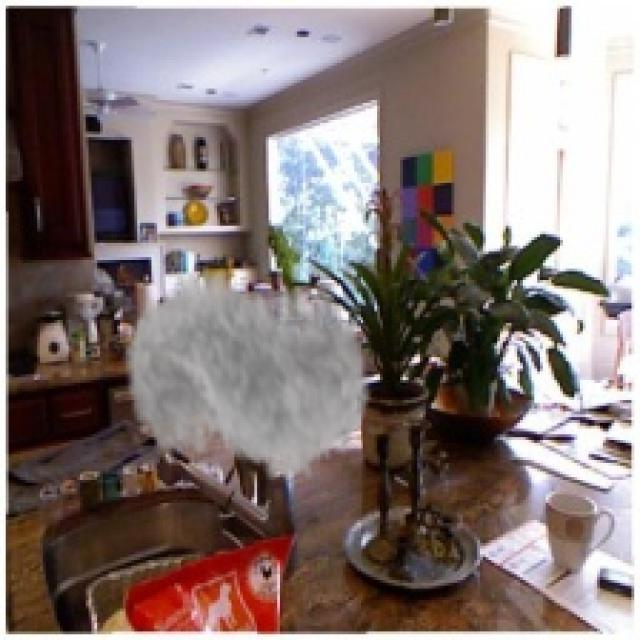smoke: (123, 240, 371, 503)
